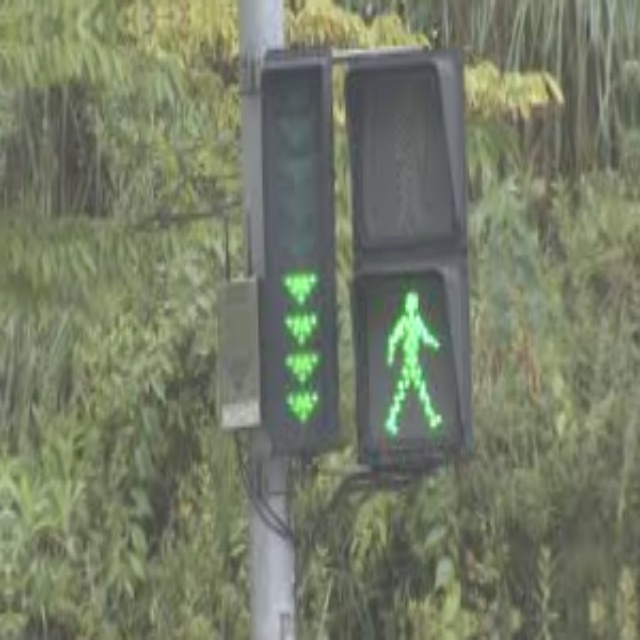green_light: (377, 284, 448, 443), (281, 386, 326, 429), (277, 269, 323, 305), (284, 347, 324, 381), (284, 309, 321, 344)
